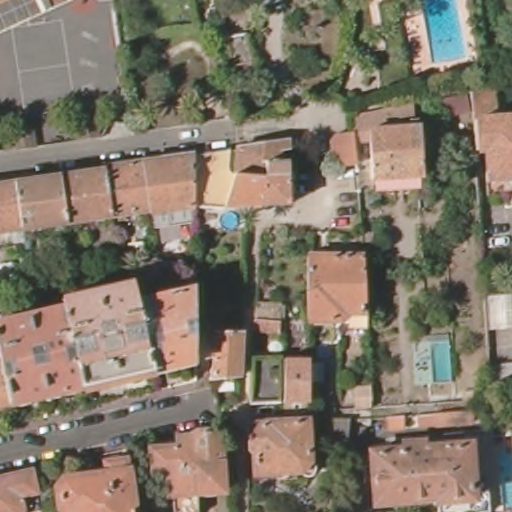pool: (420, 1, 468, 65), (423, 339, 456, 384), (219, 208, 240, 234)
